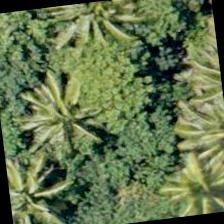Kelapa_Sawit: (10, 72, 110, 172), (148, 139, 223, 220), (49, 0, 146, 62), (4, 148, 68, 223)
